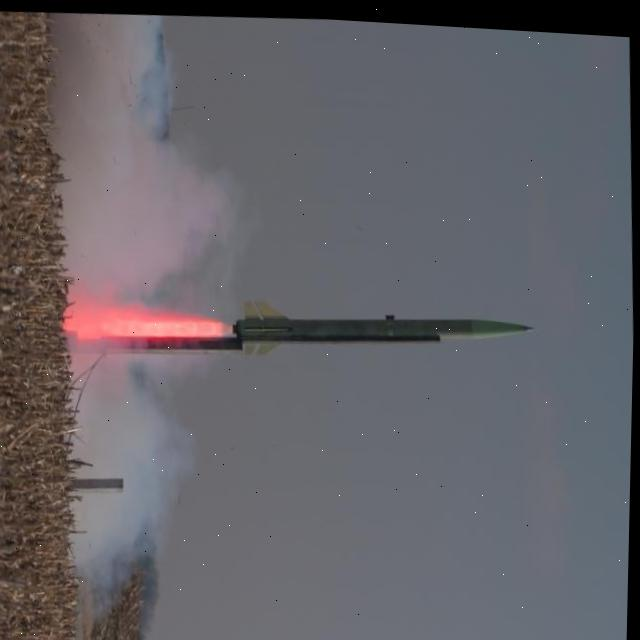missile: (221, 289, 539, 373)
